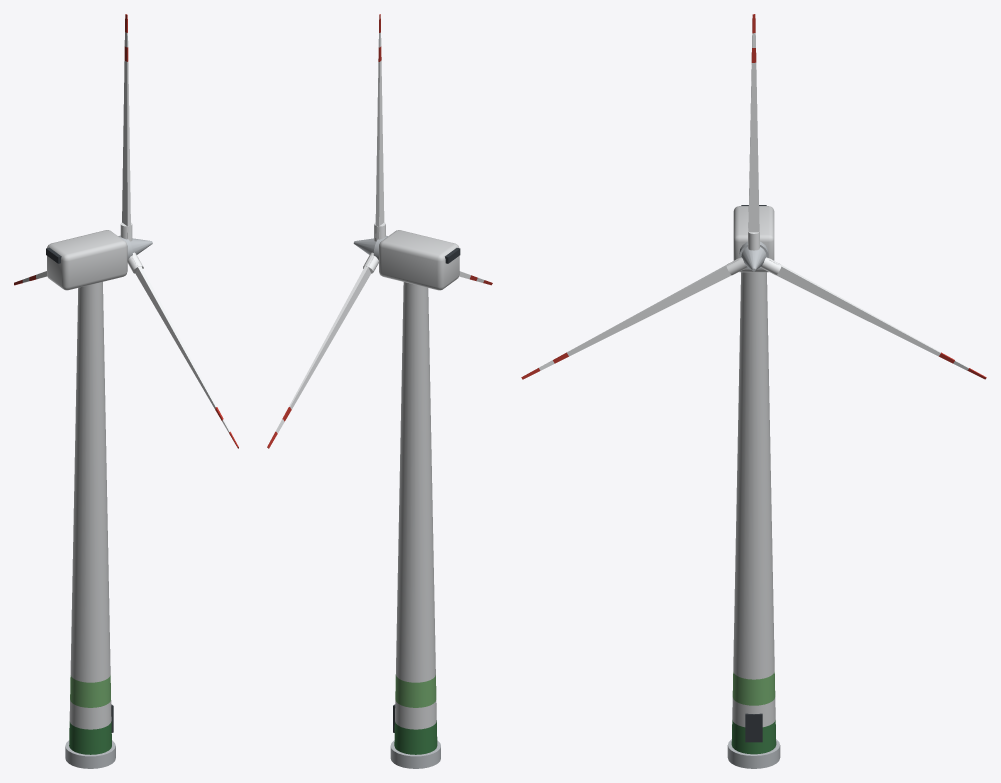
File: wind_turbine.glb
3 renders of one model, left to right at view 1: azimuth 30°, elevation 25°; view 2: azimuth 150°, elevation 25°; view 3: azimuth 270°, elevation 25°, orthographic. The views are drawn at different scales.
Visible parts, largest first — view 1: tower, nacelle, rotor, flange; view 2: tower, nacelle, rotor, flange; view 3: tower, rotor, nacelle, flange.
Part boxes in pixels (box(x1,y1,x2,y2)): tower: box(69, 282, 111, 754); nacelle: box(47, 230, 127, 290); rotor: box(14, 14, 238, 448); flange: box(65, 740, 115, 768); tower: box(394, 282, 437, 754); nacelle: box(379, 230, 459, 290); rotor: box(267, 14, 492, 448); flange: box(390, 740, 440, 768); tower: box(731, 272, 776, 754); rotor: box(521, 14, 986, 379); nacelle: box(733, 206, 774, 272); flange: box(727, 739, 780, 768).
Size of the model in its own units: 2.92 by 20.55 by 11.38.
